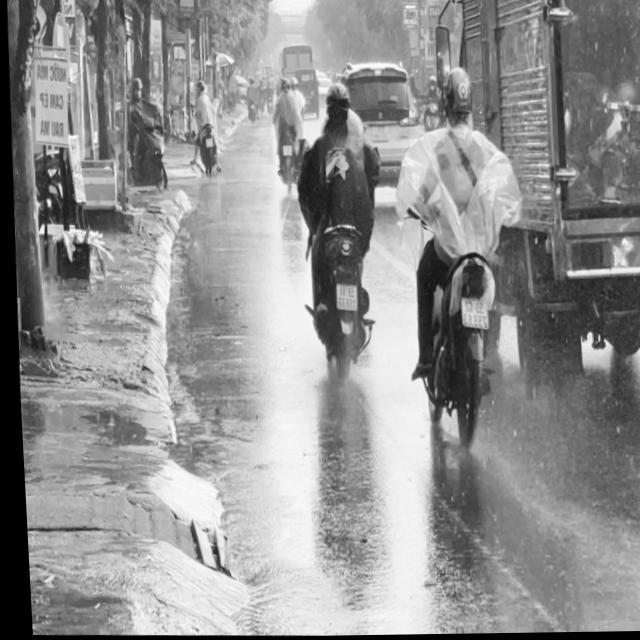helmet: (440, 63, 475, 124), (321, 80, 349, 124)
licenseplate: (386, 59, 530, 448), (287, 75, 384, 381)
nohelmet: (456, 297, 484, 327), (332, 283, 353, 309)
